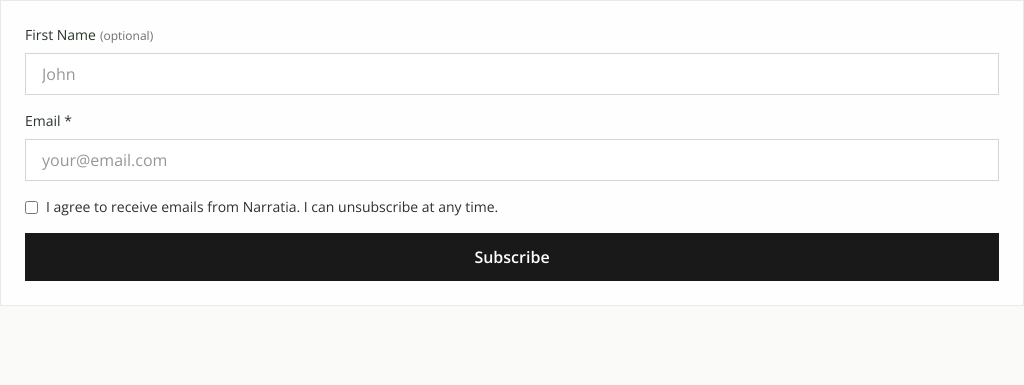
Test case: EmailSignupForm › Error Handling › should handle network errors gracefully
Type "test@example.com" into the field labelled "Email *" at (512, 160), box [25, 139, 999, 181]
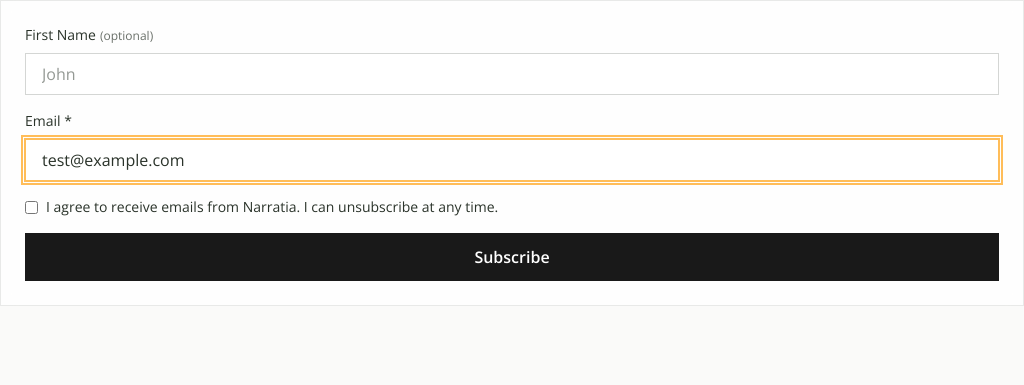
Click the checkbox at (32, 208), box [25, 201, 38, 214]
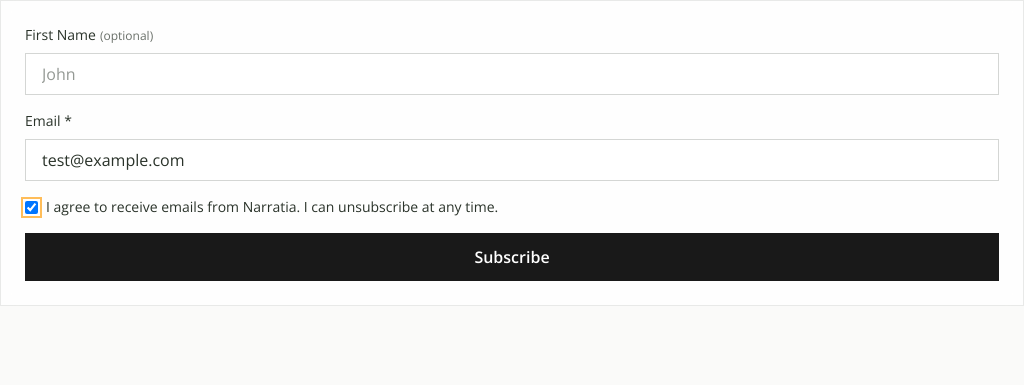
Click the button "Subscribe" at (512, 257), box [25, 233, 999, 281]
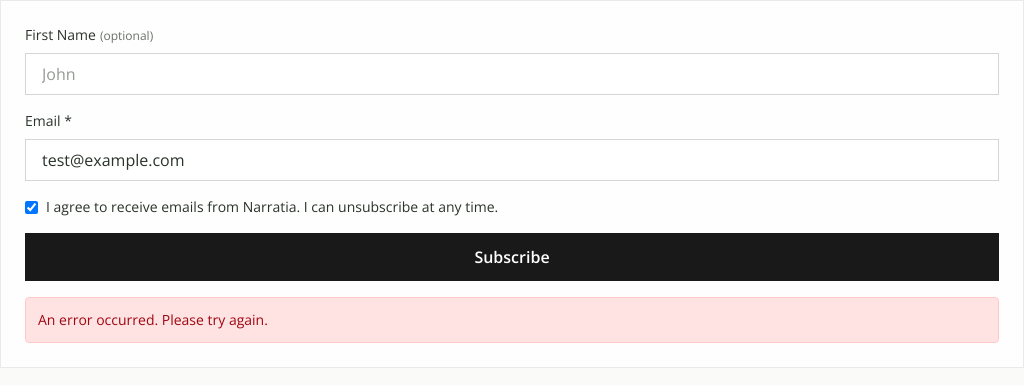
Check: the text "An error occurred. Please try again." is shown, box [25, 297, 999, 343]
